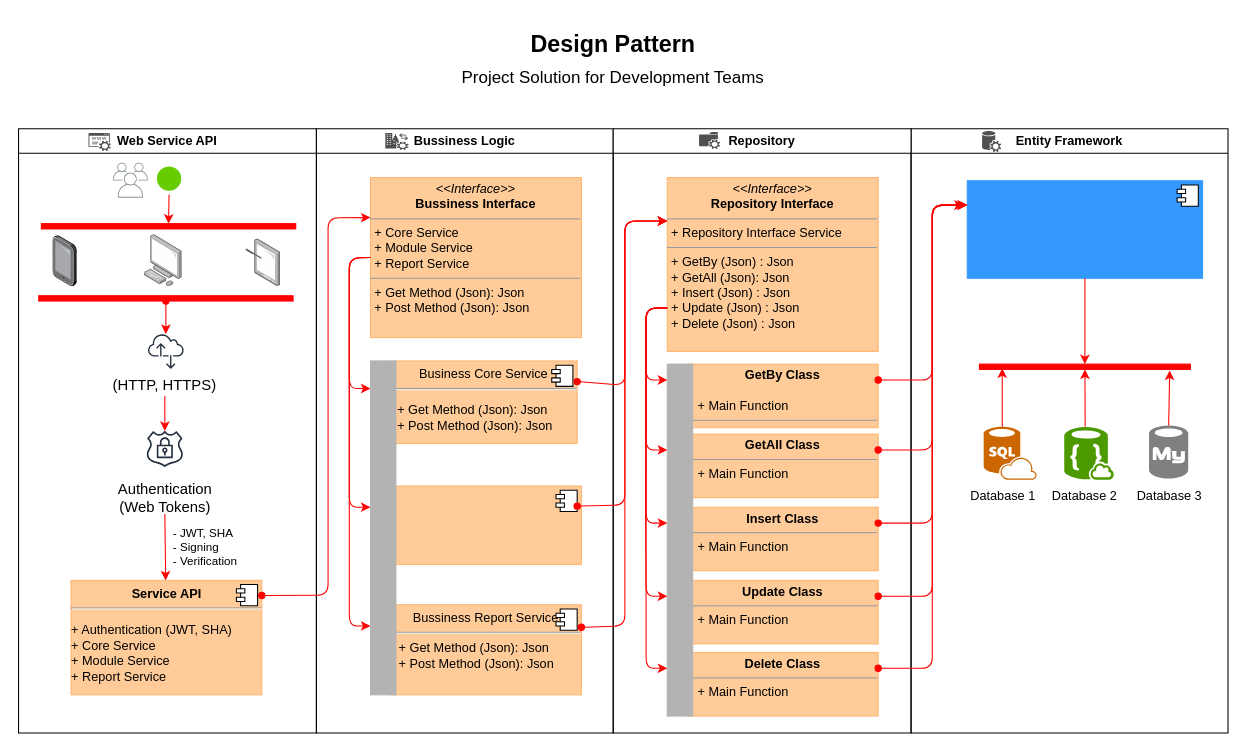
Some shapes in this 1247 by 752 pixel diagram are drawn without their labels. The shapes that lost their labels are listed below. From the top down, each one's centre as x and y in pixels, then its label:
[129,179]: users
[1084,229]: Entity Framework + Code First Design + Database Object Class
[383,527]: Bussiness Service
[485,524]: Bussiness Module Service + Get Method (Json): Json + Post Method (Json): Json
[679,539]: Repository Service
